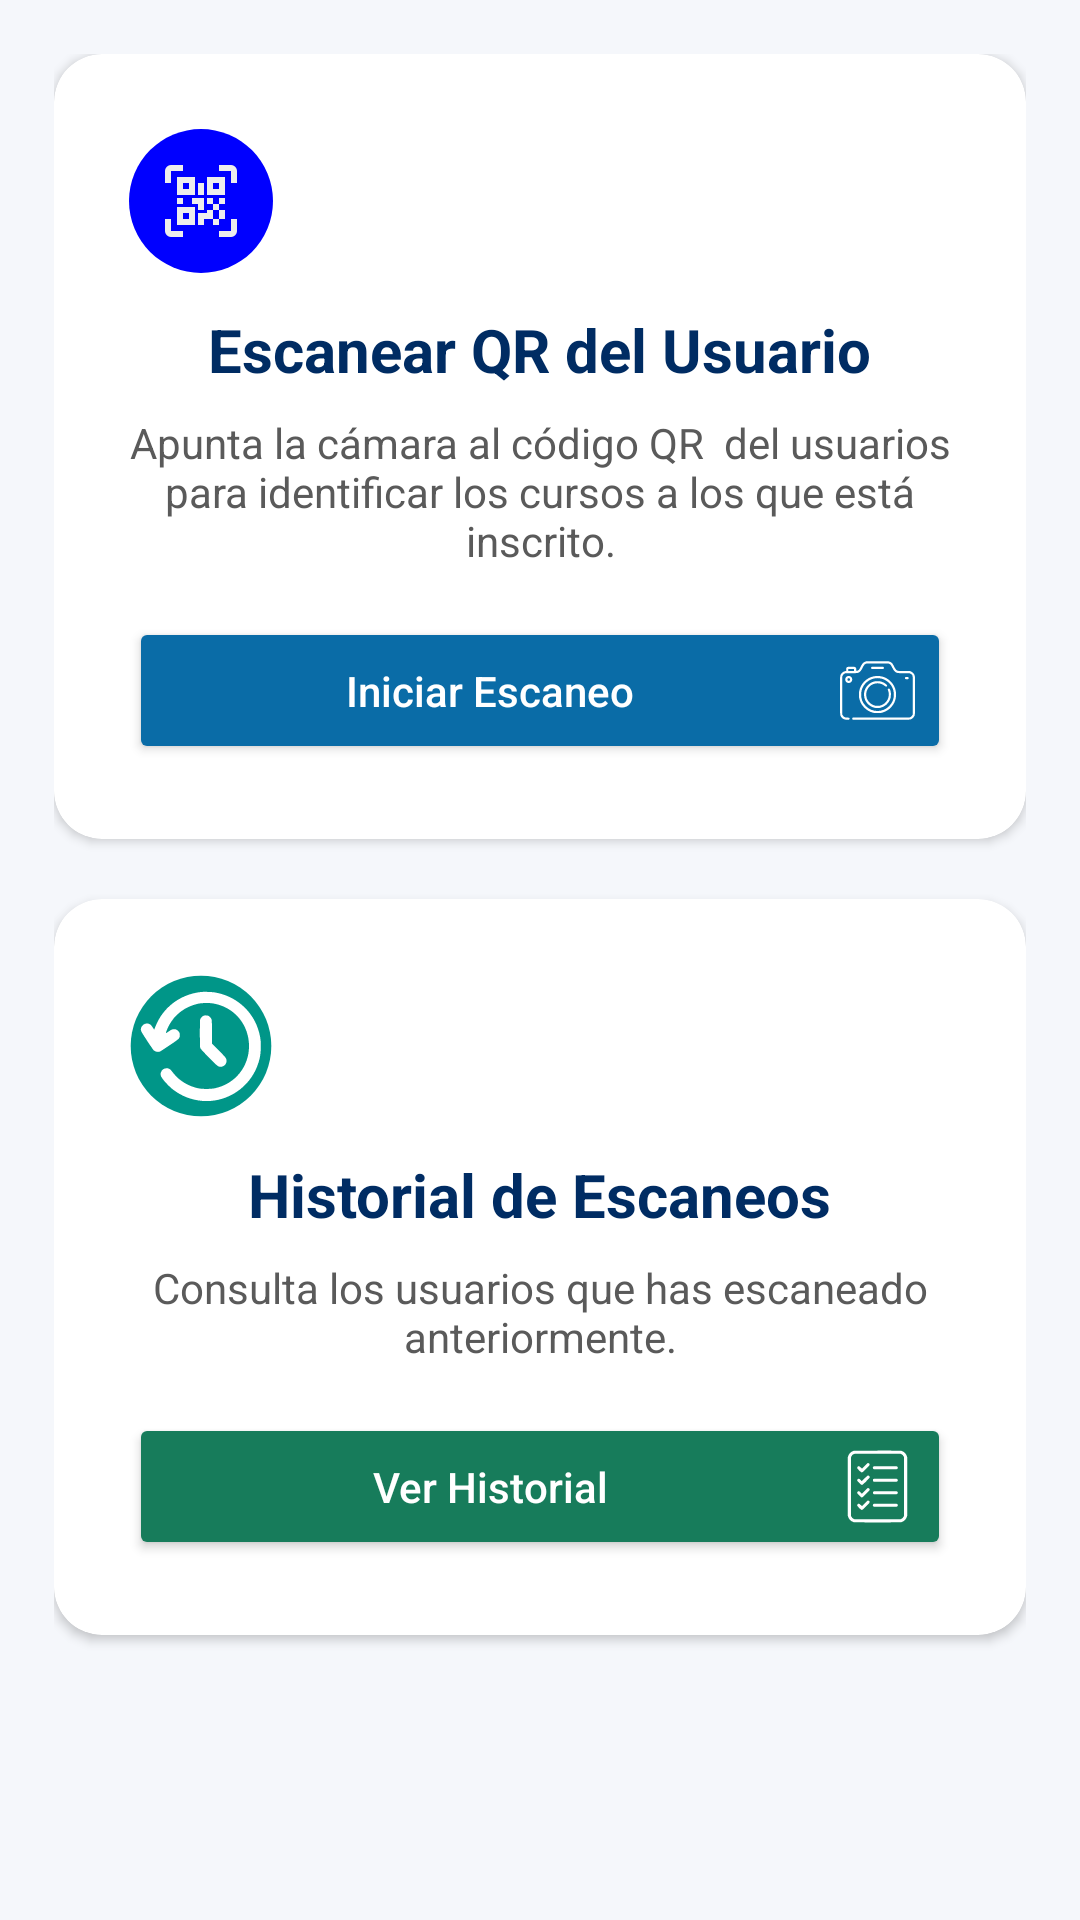

Icon click points for this 1080*1920 phone screenshot, format [x,y]:
history: [201,1046]
